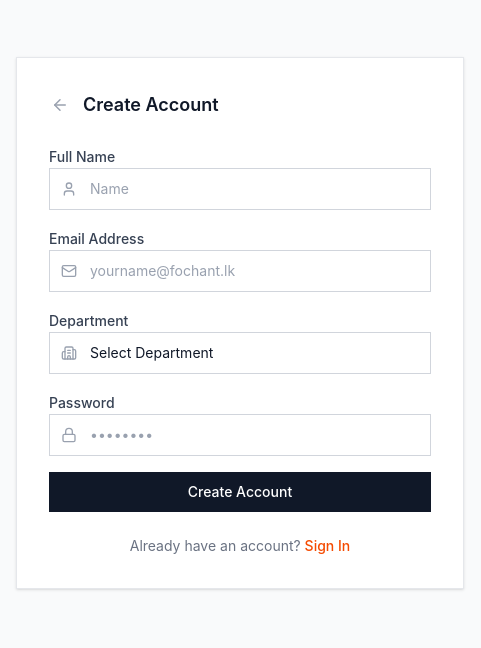
Test: RegisterPage › handles successful registration
The width and height of the screenshot is (481, 648).
Type "John Doe" into the field with placeholder "Name".
click(240, 189); type("John Doe")  # box [49,168,431,210]
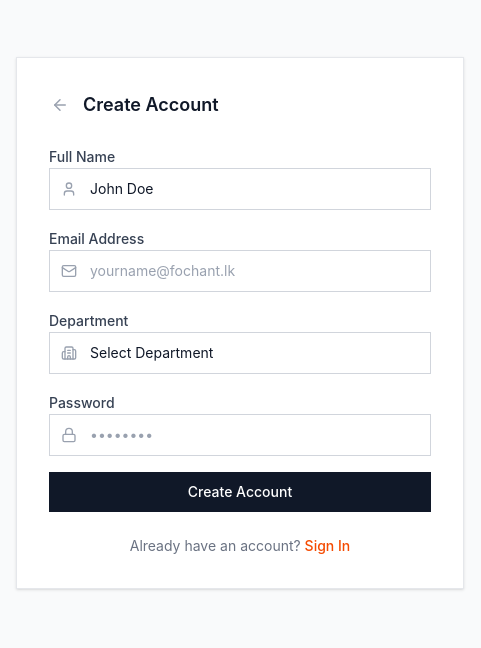
Type "john@fochant.lk" into the field with placeholder "yourname@fochant.lk".
click(240, 271); type("john@fochant.lk")  # box [49,250,431,292]
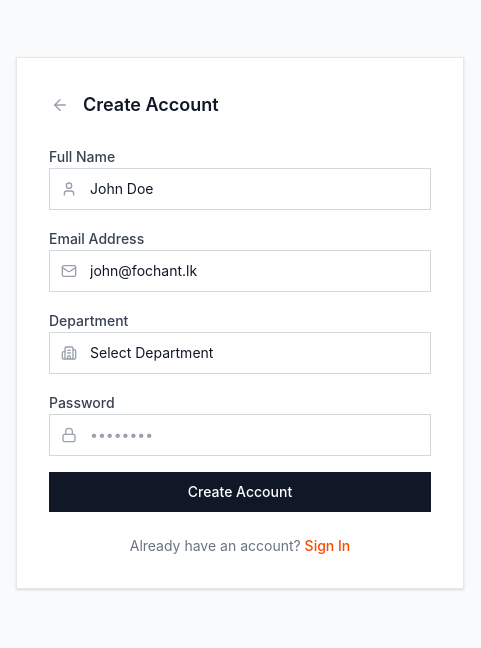
Select "Design" in the dropdown at (240,353), box [49,332,431,374]
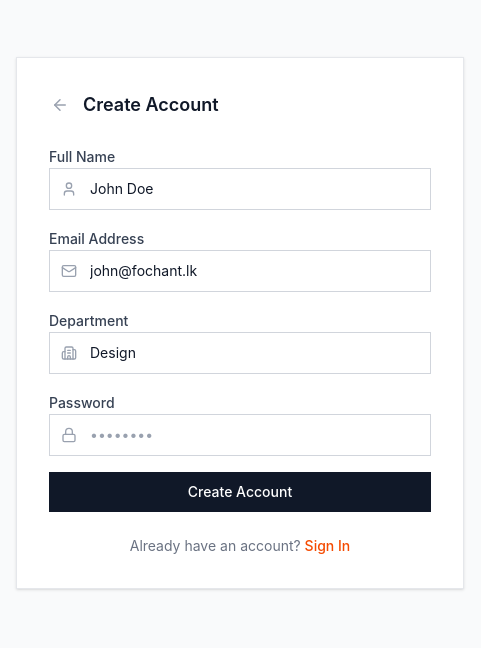
Type "password123" into the password field with placeholder "••••••••".
click(240, 435); type("password123")  # box [49,414,431,456]
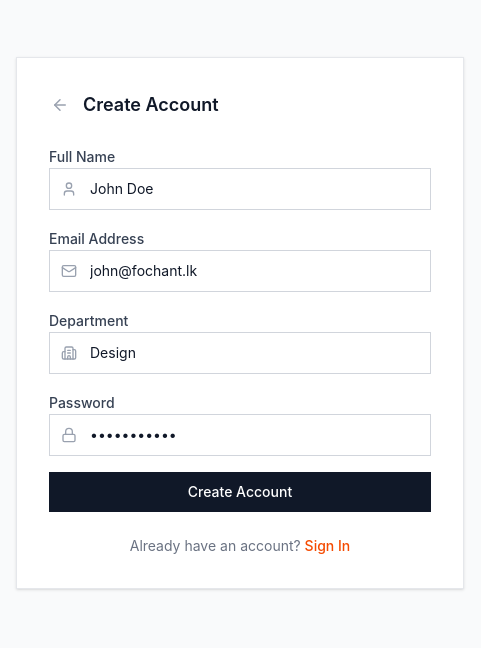
Click the button "Create Account".
click(240, 492)  # box [49,472,431,512]
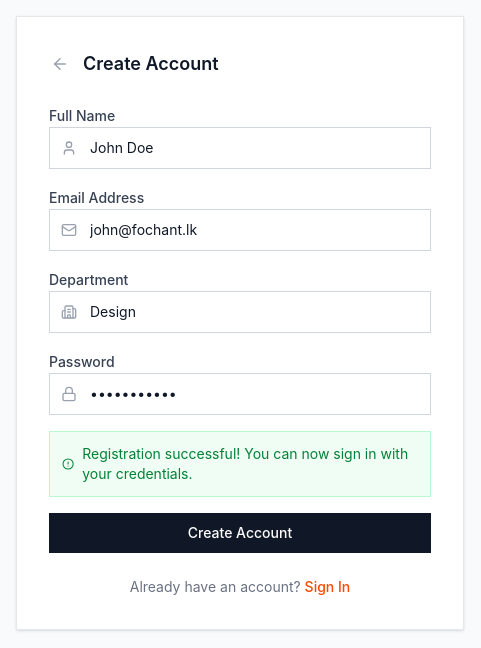
Expected: the text "Registration successful" is shown, [82,445,408,482]
